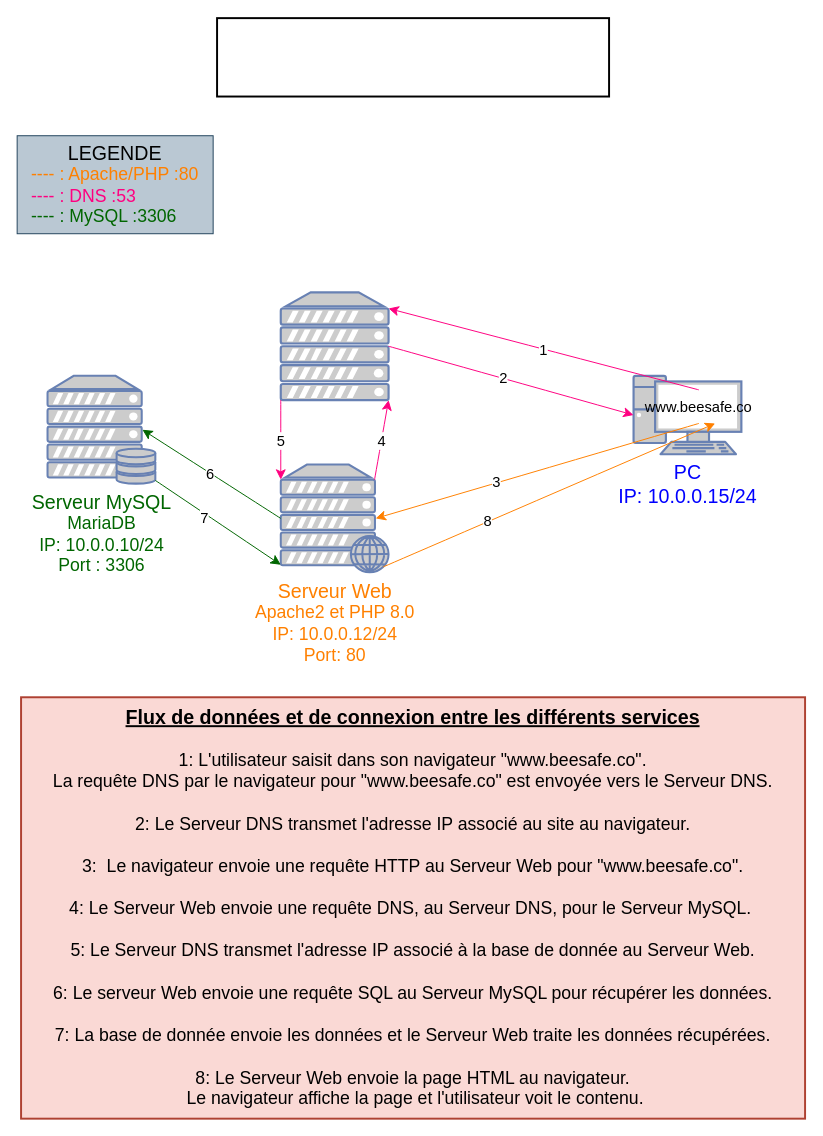
The diagram is 823 pixels wide and 1136 high, and some of its shapes have lost their labels. The centre of each missing label's shape, as x and y in pixels:
Schéma d'architecture 3-tiers: pixel 413 57
Serveur DNS Bind9 IP: 10.0.0.11 /24 Port: 53: pixel 334 346
